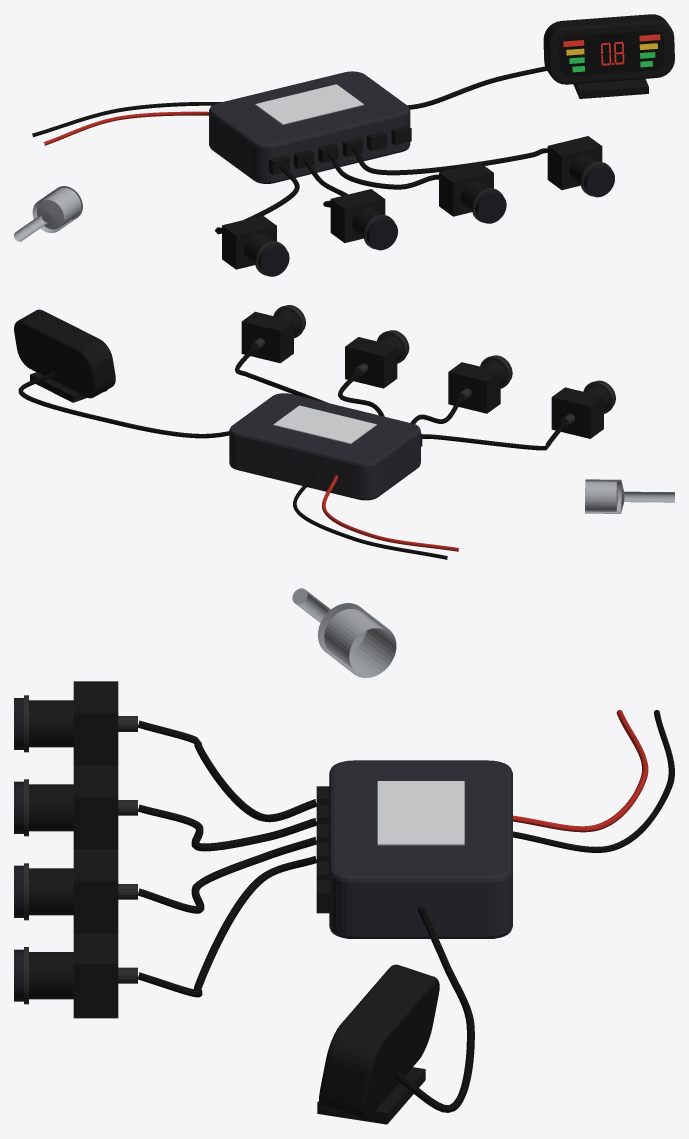
File: kit_sensor_retro_kia_soluto.glb
3 renders of one model, top to bottom at view 1: azimuth 30°, elevation 25°; view 2: azimuth 150°, elevation 25°; view 3: azimuth 270°, elevation 25°, orthographic. The views are drawn at different scales.
Parts seen in each view (by area): view 1: plastico_negro, caja_control, cable_negro, pantalla, cara_sensor, etiqueta, acero_broca, cable_rojo, goma, led_rojo; view 2: plastico_negro, caja_control, cable_negro, etiqueta, acero_broca, goma, cable_rojo; view 3: plastico_negro, caja_control, cable_negro, etiqueta, acero_broca, goma, cara_sensor, cable_rojo.
Part boxes in pixels (x1=…): plastico_negro: x1=222, y1=14, x2=674, y2=269; caja_control: x1=209, y1=71, x2=410, y2=183; cable_negro: x1=32, y1=66, x2=547, y2=234; pantalla: x1=559, y1=30, x2=664, y2=76; cara_sensor: x1=258, y1=164, x2=614, y2=276; etiqueta: x1=255, y1=84, x2=363, y2=124; acero_broca: x1=14, y1=186, x2=82, y2=241; cable_rojo: x1=43, y1=111, x2=208, y2=145; goma: x1=255, y1=162, x2=611, y2=275; led_rojo: x1=563, y1=34, x2=660, y2=65; plastico_negro: x1=14, y1=309, x2=609, y2=446; caja_control: x1=229, y1=393, x2=420, y2=500; cable_negro: x1=18, y1=345, x2=566, y2=559; etiqueta: x1=273, y1=405, x2=376, y2=444; acero_broca: x1=585, y1=479, x2=674, y2=513; goma: x1=251, y1=305, x2=614, y2=426; cable_rojo: x1=322, y1=475, x2=458, y2=551; plastico_negro: x1=29, y1=681, x2=439, y2=1124; caja_control: x1=329, y1=760, x2=512, y2=938; cable_negro: x1=138, y1=710, x2=674, y2=1112; etiqueta: x1=377, y1=781, x2=464, y2=845; acero_broca: x1=292, y1=588, x2=396, y2=677; goma: x1=24, y1=695, x2=137, y2=1004; cara_sensor: x1=14, y1=698, x2=23, y2=1001; cable_rojo: x1=513, y1=710, x2=648, y2=832.
Bounding box in the file's own units: 0.4972 × 0.0468 × 0.2663.
